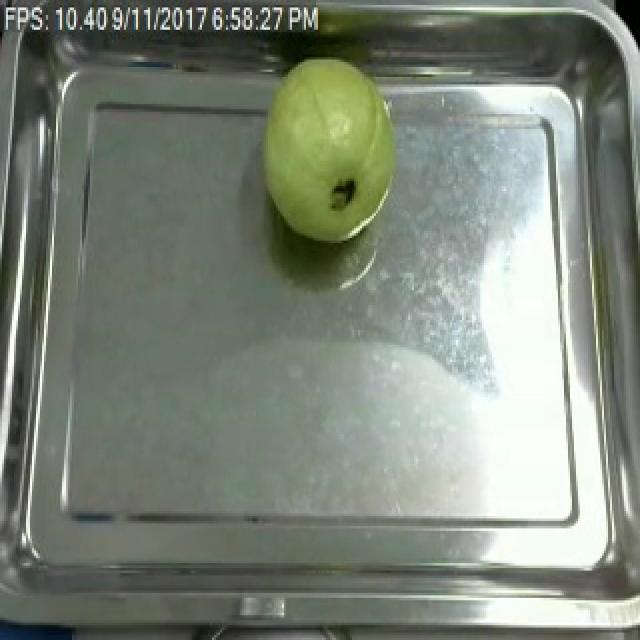Fruit: (254, 47, 406, 251)
